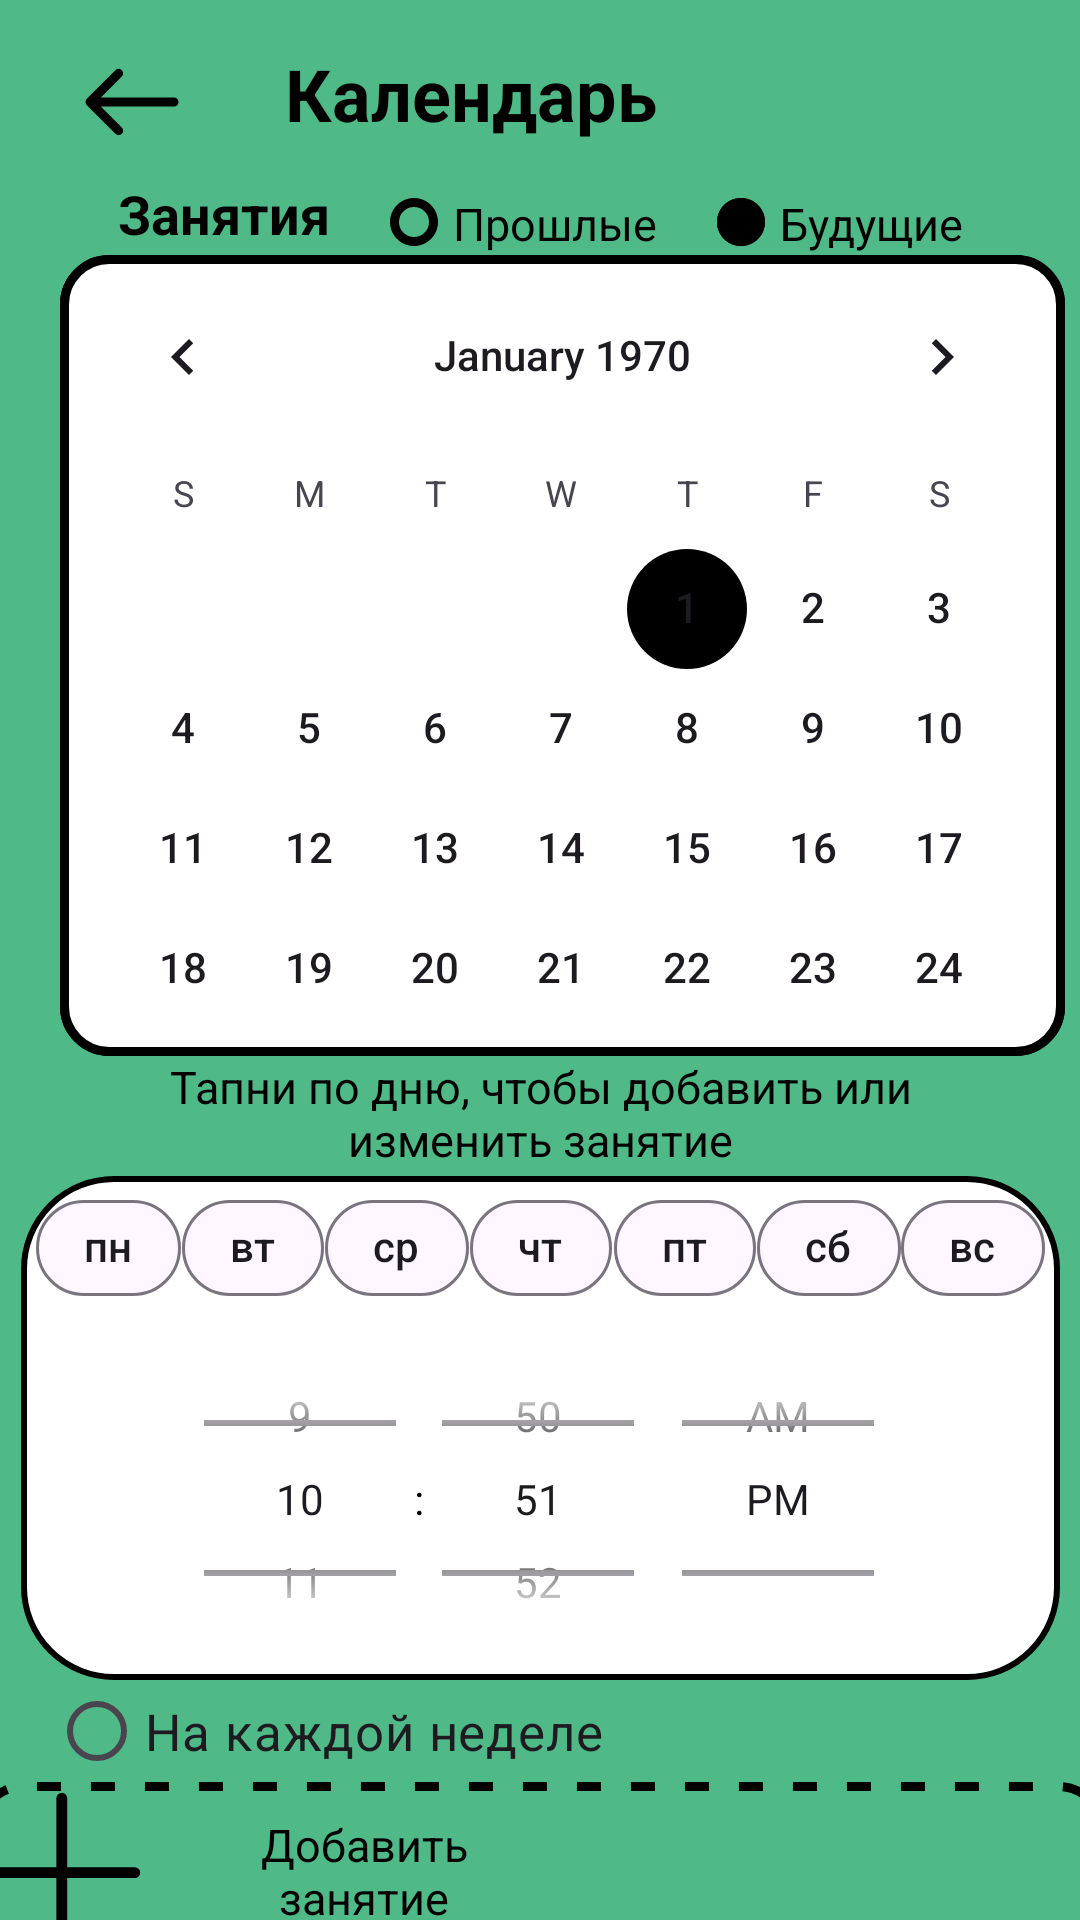

Named icons in this screenshot (1080 x 1920) and their centers, point (x, y):
arrow: point (132, 102)
